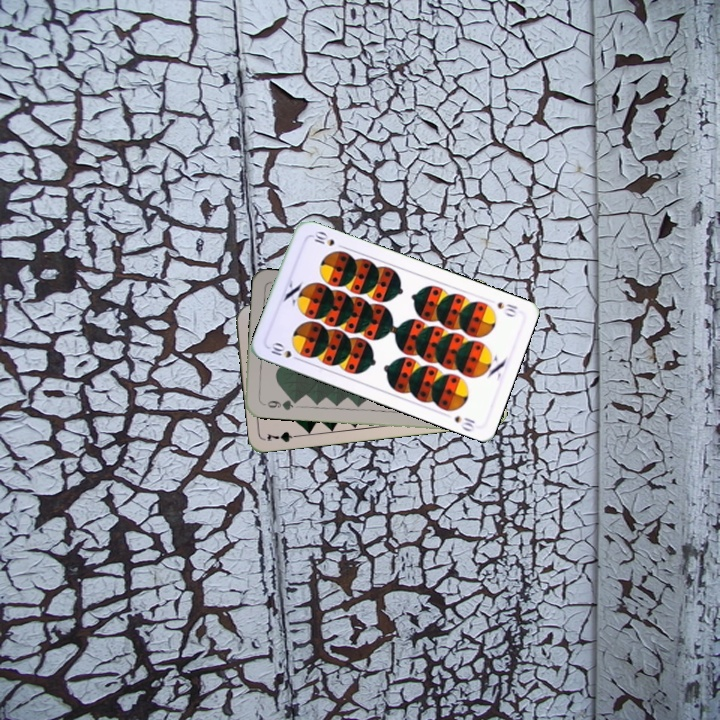G7: (263, 427, 303, 445)
G9: (258, 395, 299, 413)
S10: (265, 338, 304, 364), (493, 298, 520, 319)
